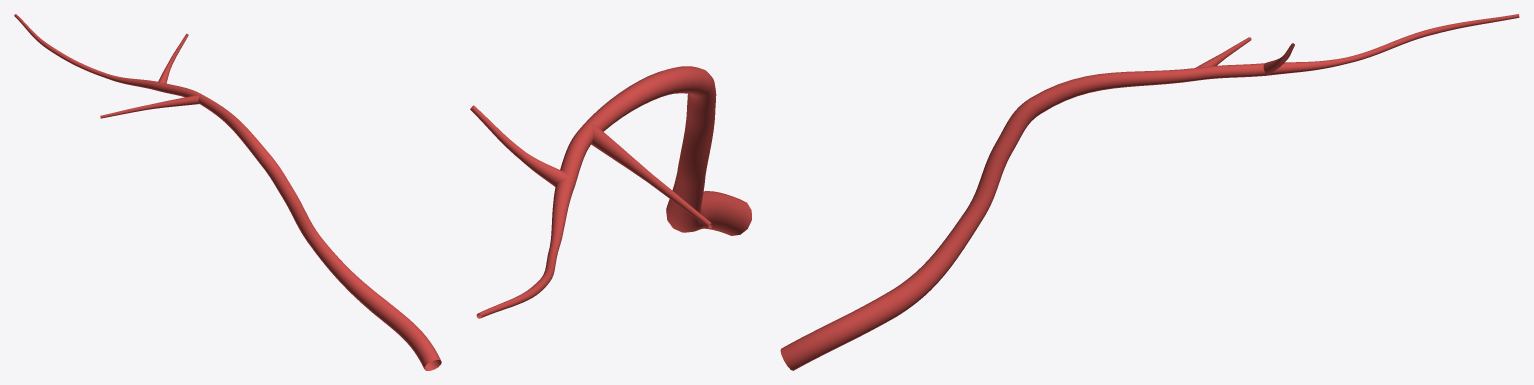
3 renders of one model, left to right at view 1: azimuth 30°, elevation 25°; view 2: azimuth 150°, elevation 25°; view 3: azimuth 270°, elevation 25°, orthographic. The views are drawn at different scales.
Visible parts, largest first — view 1: 右侧臀下动脉; view 2: 右侧臀下动脉; view 3: 右侧臀下动脉.
Boxes of the visible parts, x1,y1,x2,y2 form: 右侧臀下动脉: (14, 14, 441, 370); 右侧臀下动脉: (470, 66, 751, 318); 右侧臀下动脉: (780, 14, 1519, 370).
Size of the model in its own units: 0.0604 by 0.0735 by 0.1708.
